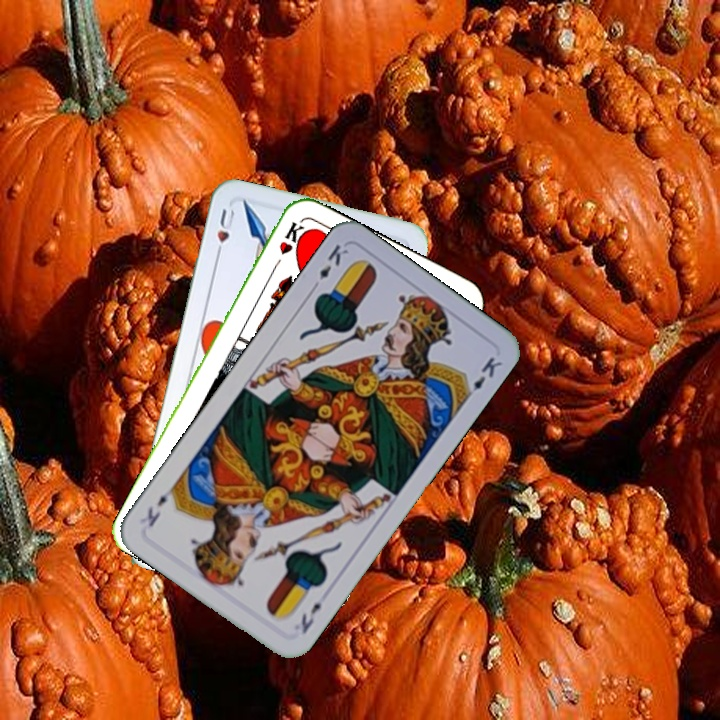EK: (307, 240, 351, 294), (296, 598, 325, 637)
HK: (268, 217, 307, 273)
HU: (211, 205, 237, 261)
